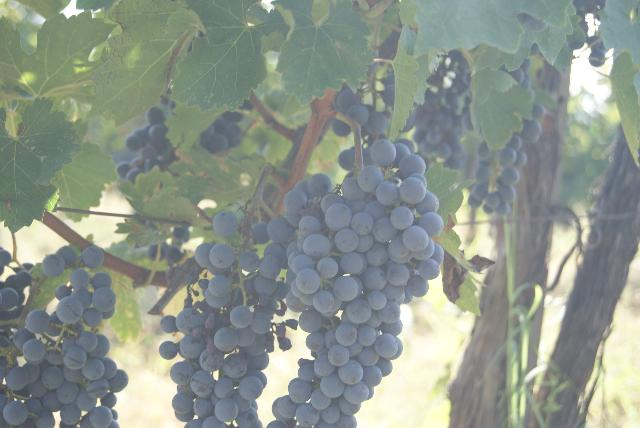grapes: (269, 140, 444, 428), (160, 211, 288, 428)
